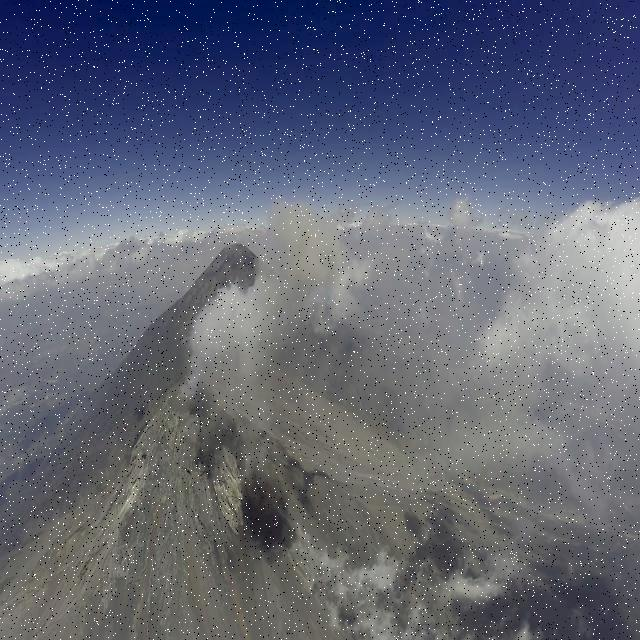Plume: (185, 198, 345, 374)
Summit: (112, 372, 250, 541)
